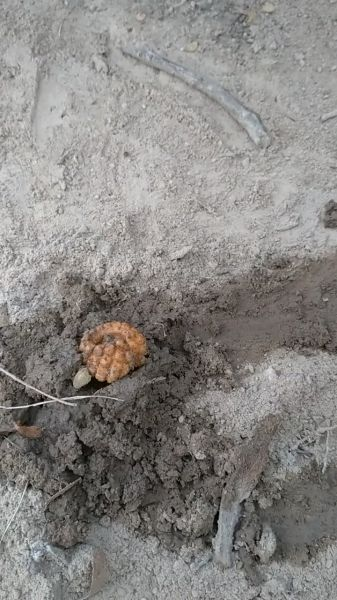eggs: (76, 318, 152, 384)
